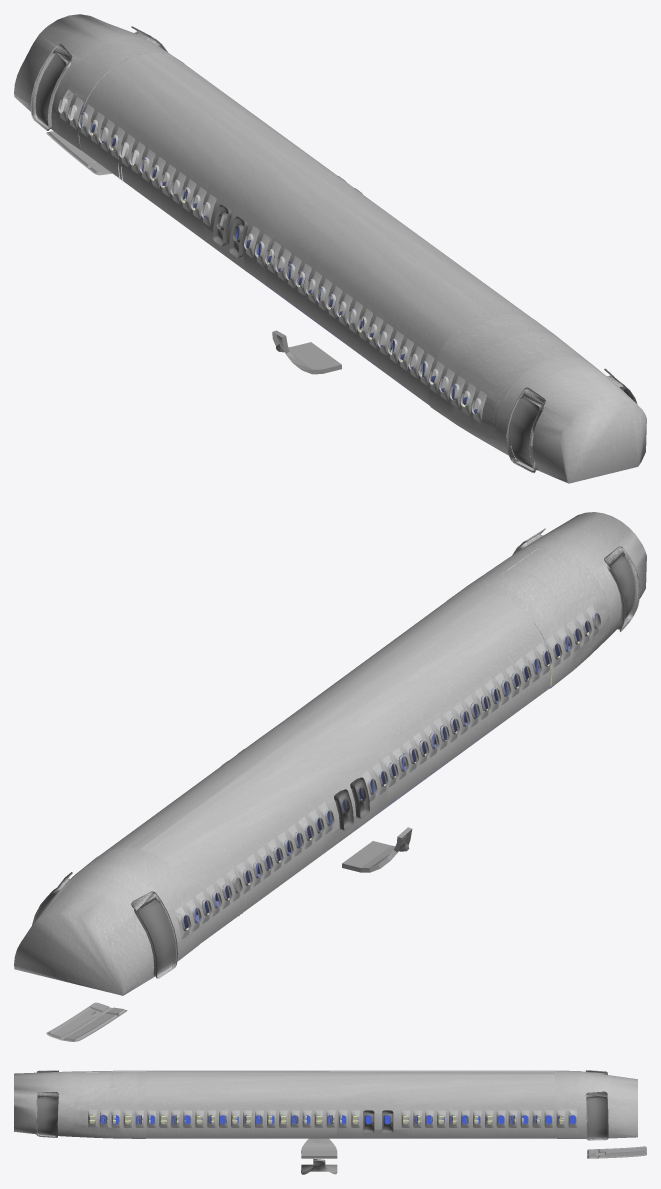
3 renders of one model, top to bottom at view 1: azimuth 30°, elevation 25°; view 2: azimuth 150°, elevation 25°; view 3: azimuth 270°, elevation 25°, orthographic. The views are drawn at different scales.
Parts seen in each view (by area): view 1: static-material-0, static-material-2, static-material-4, static-material-8, static-material-7; view 2: static-material-0, static-material-2, static-material-4, static-material-7; view 3: static-material-0, static-material-2, static-material-4, static-material-6, static-material-3, static-material-7, static-material-5.
Boxes of the visible parts, bbox=[...] form: static-material-0: bbox=[14, 14, 646, 483]; static-material-2: bbox=[32, 26, 636, 472]; static-material-4: bbox=[46, 131, 341, 374]; static-material-8: bbox=[81, 114, 478, 409]; static-material-7: bbox=[81, 107, 477, 414]; static-material-0: bbox=[14, 512, 646, 995]; static-material-2: bbox=[32, 528, 638, 978]; static-material-4: bbox=[46, 827, 412, 1041]; static-material-7: bbox=[183, 613, 595, 928]; static-material-0: bbox=[14, 1070, 637, 1140]; static-material-2: bbox=[36, 1070, 608, 1140]; static-material-4: bbox=[301, 1138, 646, 1174]; static-material-6: bbox=[89, 1114, 563, 1124]; static-material-3: bbox=[101, 1114, 575, 1124]; static-material-7: bbox=[89, 1114, 562, 1124]; static-material-5: bbox=[86, 1071, 554, 1078].
Bounding box in the file's own units: 3.95 × 4.36 × 28.26.
9 materials, 4 textured.
